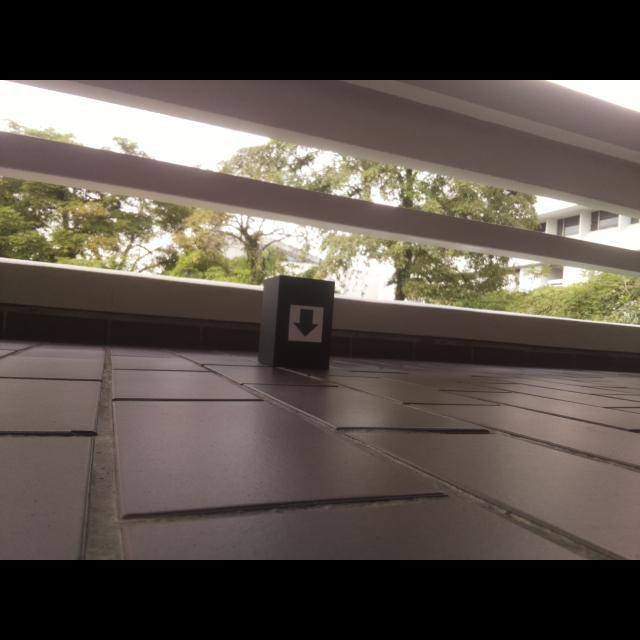DOWN: (292, 308, 319, 338)
